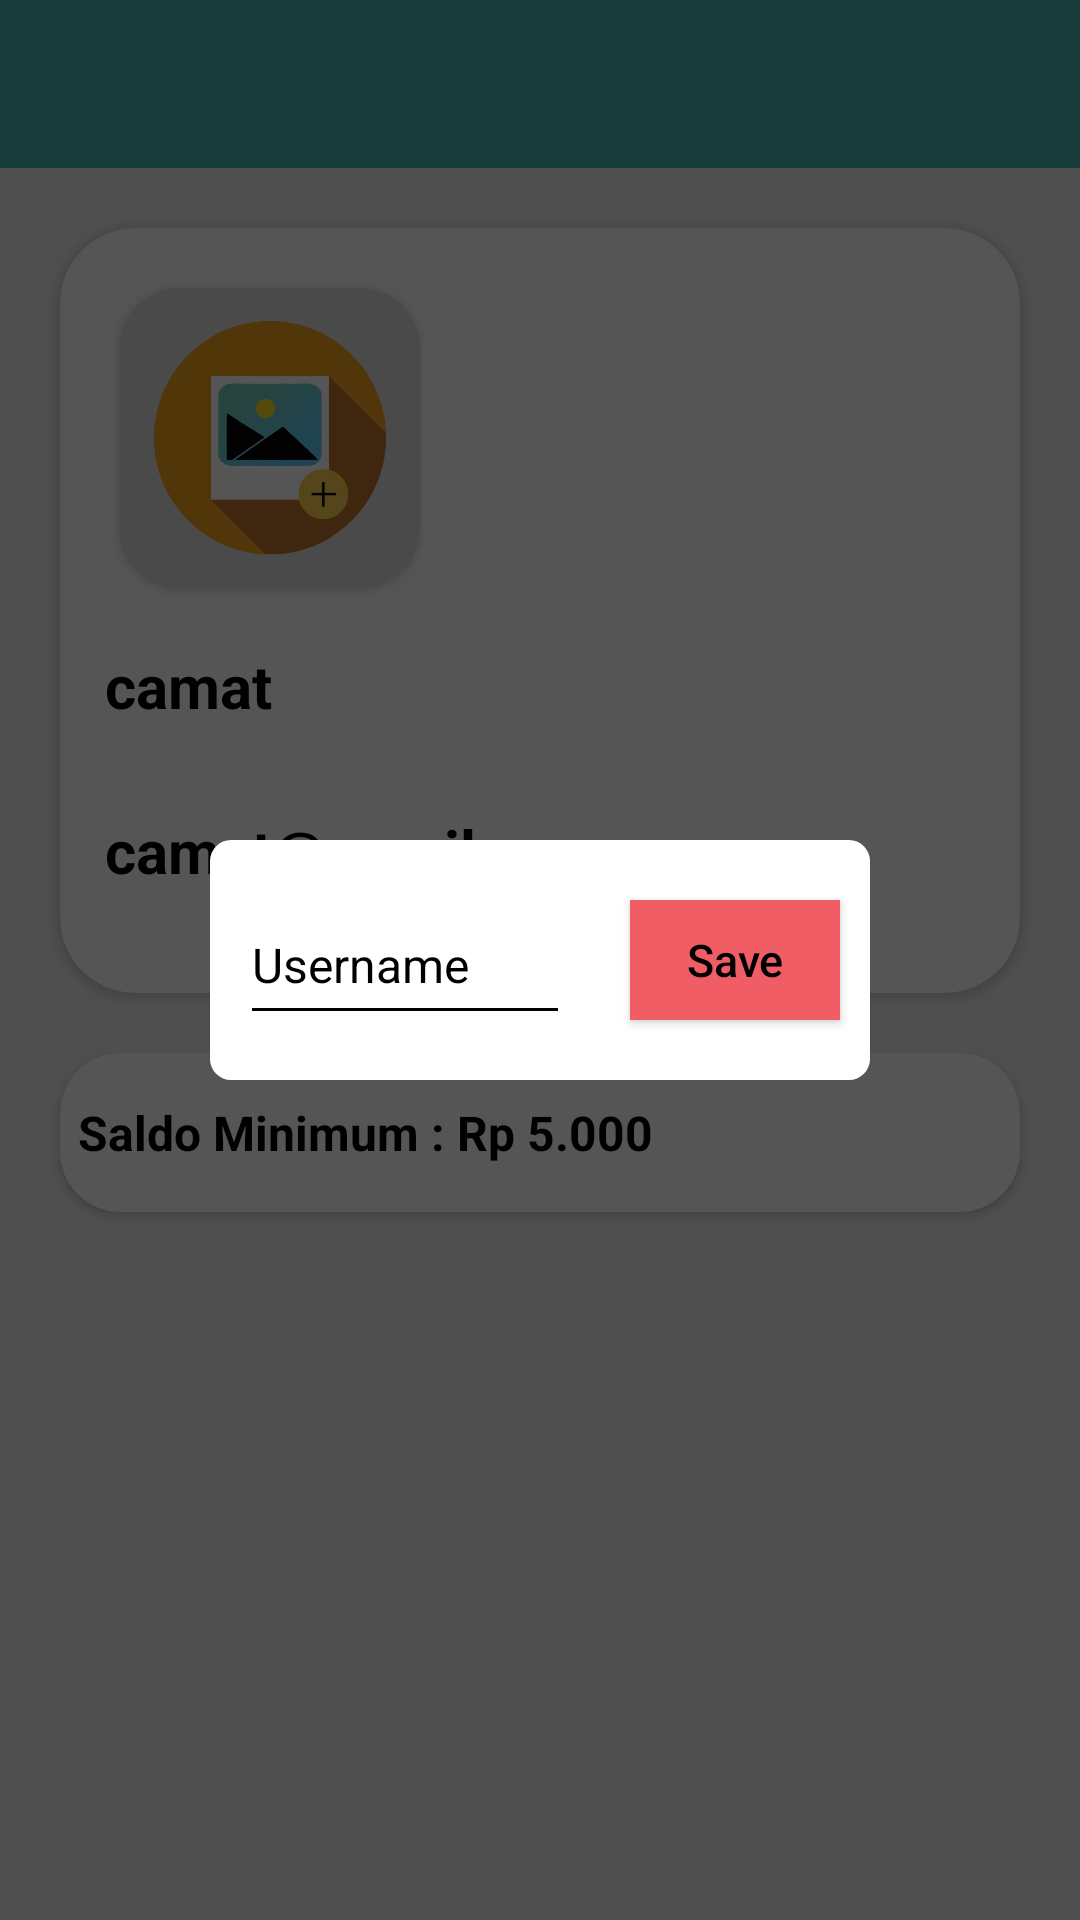

Icon bounding boxes for this 1080x1920 phone screenshot, format [left=x1, top=y1, right=x2, bottom=y2]:
add: [left=154, top=321, right=386, bottom=554]
